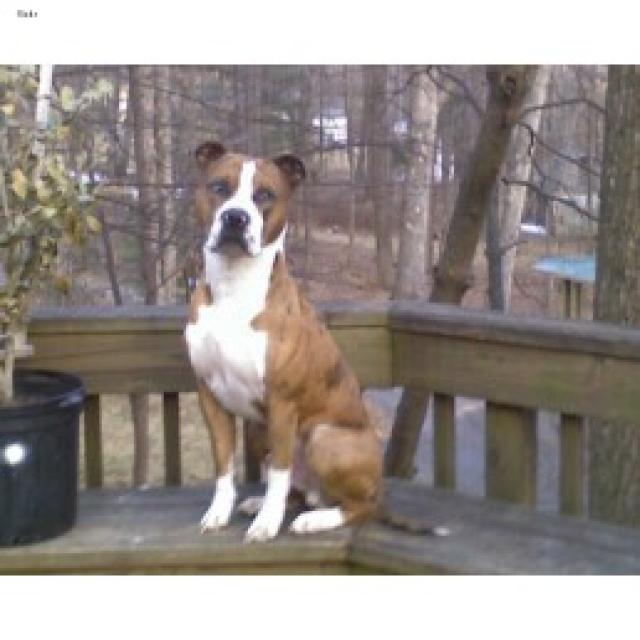dog-american_pit_bull_terrier: (179, 131, 454, 551)
